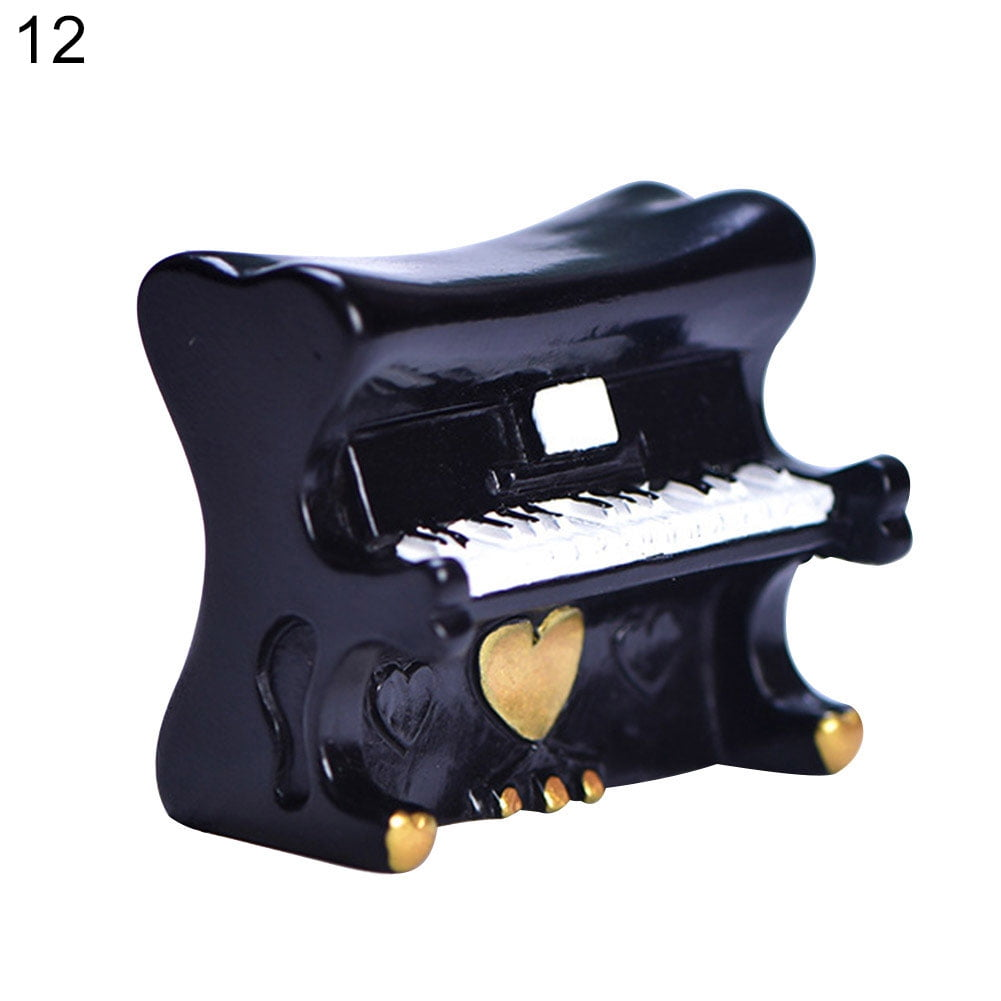Piano: (116, 140, 953, 898)
